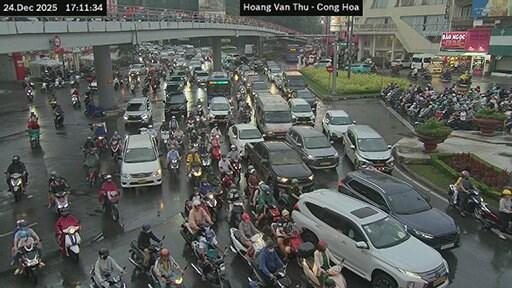motorbike: (191, 239, 230, 287), (128, 234, 163, 279), (464, 189, 501, 228), (249, 256, 290, 286), (447, 184, 482, 219), (230, 228, 265, 261), (269, 223, 303, 256), (297, 242, 320, 287), (179, 199, 198, 243), (19, 243, 39, 283), (61, 225, 80, 261), (147, 269, 182, 287), (327, 260, 345, 287), (6, 171, 22, 201), (103, 190, 118, 220), (263, 202, 280, 228), (202, 192, 217, 221), (227, 198, 243, 225), (54, 190, 67, 215), (102, 273, 125, 287), (188, 162, 201, 185), (83, 104, 105, 116), (89, 265, 101, 287), (230, 157, 240, 183), (109, 139, 120, 162), (93, 135, 106, 154), (448, 184, 458, 207), (86, 166, 96, 187), (160, 130, 169, 152), (28, 129, 38, 148), (211, 145, 220, 166), (169, 158, 178, 178), (199, 153, 210, 169), (185, 118, 195, 134), (54, 111, 63, 127), (71, 94, 79, 108), (21, 80, 34, 88), (112, 77, 120, 90), (505, 117, 511, 133), (175, 135, 182, 148), (194, 103, 201, 116), (41, 81, 50, 91), (54, 76, 63, 86), (441, 72, 451, 81), (26, 89, 32, 102), (128, 82, 134, 94), (49, 98, 56, 108), (70, 76, 77, 86), (504, 225, 511, 234), (199, 224, 208, 229), (458, 192, 463, 197), (457, 198, 460, 202), (170, 256, 173, 260), (297, 259, 300, 261)
